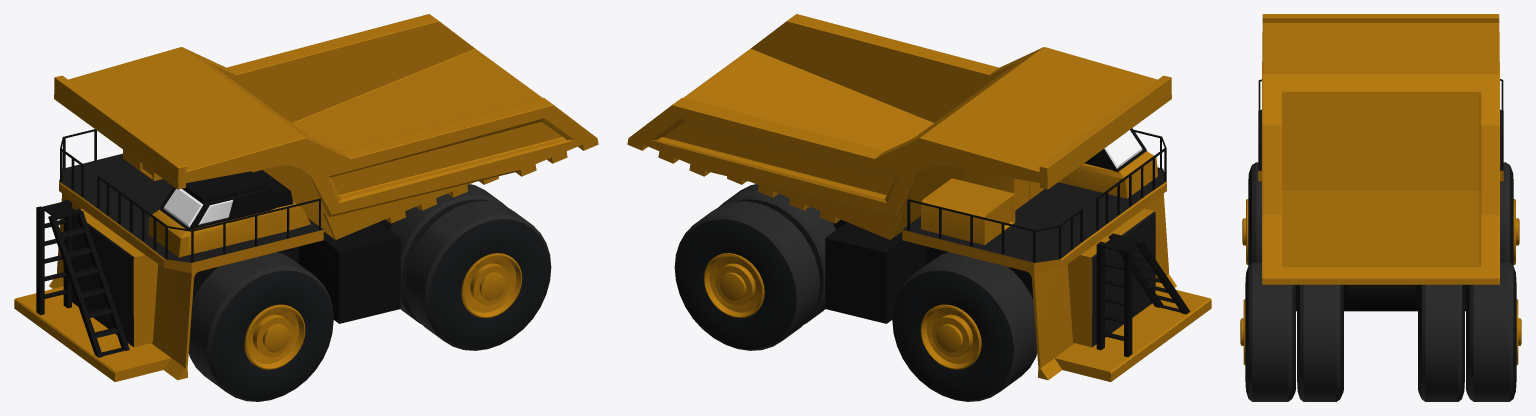
Rendered from caminhao.glb.
3 views of the same model, side by side, from view 1: azimuth 30°, elevation 25°; view 2: azimuth 150°, elevation 25°; view 3: azimuth 270°, elevation 25° (orthographic). The views are drawn at different scales.
Visible parts, largest first — view 1: e830.002; view 2: e830.002; view 3: e830.002.
Part boxes in pixels (box(x1,y1,x2,y2)): e830.002: box(14, 14, 598, 401); e830.002: box(627, 14, 1211, 401); e830.002: box(1240, 14, 1521, 401).
Bounding box in the file's own units: 4.37 × 2.23 × 2.36.
